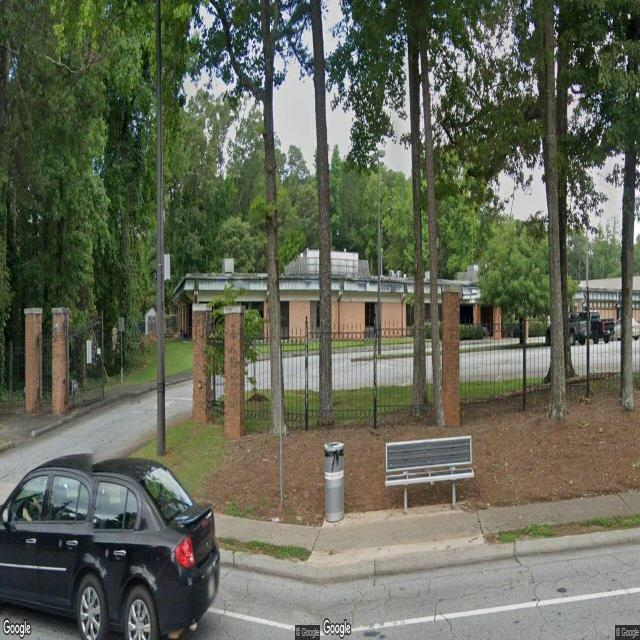seating: (384, 435, 474, 515)
trash_can: (324, 441, 344, 523)
